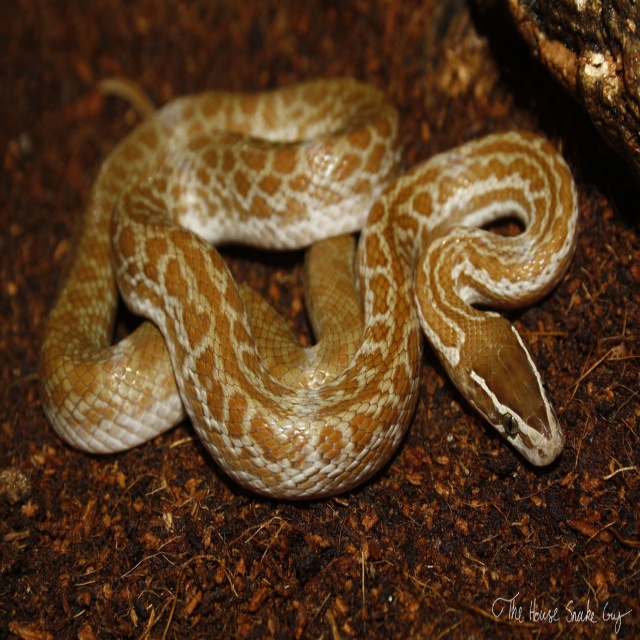Snake: (25, 67, 572, 510)
